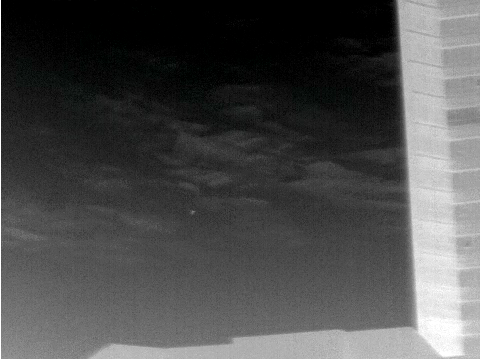dim target: (183, 203, 201, 220)
